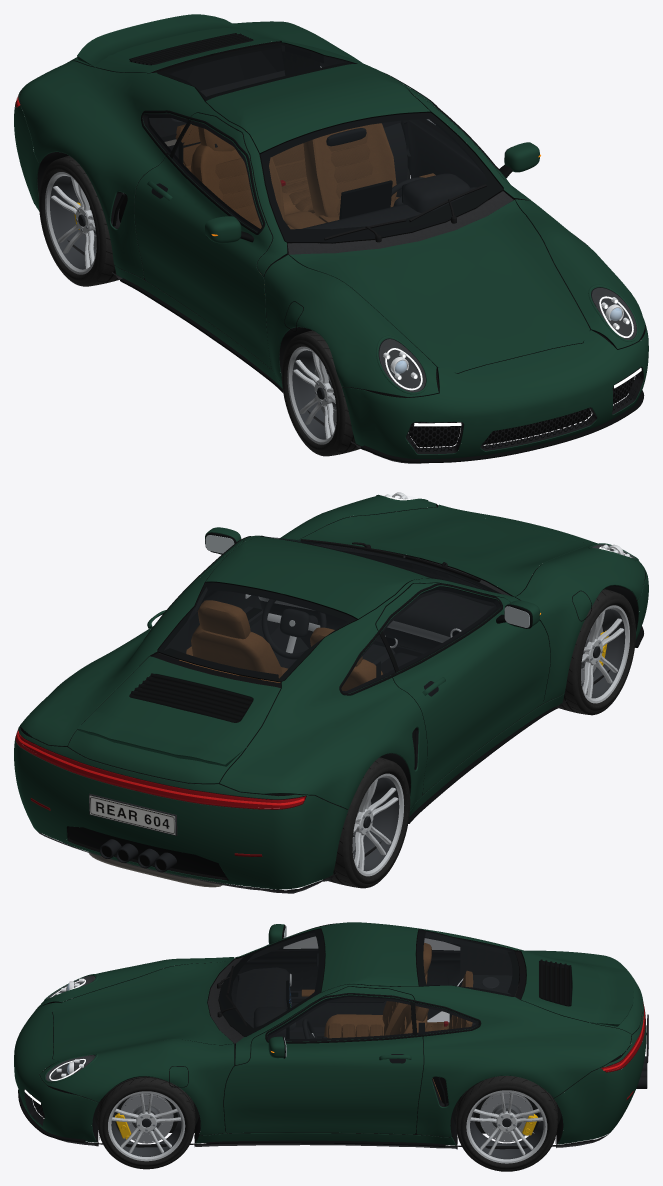
Rendered from rear-engine-sports-coupe.glb.
3 renders of one model, top to bottom at view 1: azimuth 30°, elevation 25°; view 2: azimuth 150°, elevation 25°; view 3: azimuth 270°, elevation 25°, orthographic. The views are drawn at different scales.
Visible parts, largest first — view 1: Body, Wheel_RR, Wheel_FR; view 2: Body, Wheel_RR, Wheel_FR, Steering_Wheel; view 3: Body, Wheel_RL, Wheel_FL.
Boxes of the visible parts, left/top/right/bottom form: Body: left=14, top=14, right=648, bottom=463; Wheel_RR: left=39, top=155, right=119, bottom=286; Wheel_FR: left=281, top=330, right=361, bottom=456; Body: left=14, top=492, right=648, bottom=893; Wheel_RR: left=323, top=757, right=410, bottom=888; Wheel_FR: left=556, top=589, right=635, bottom=715; Steering_Wheel: left=261, top=599, right=326, bottom=659; Body: left=14, top=922, right=648, bottom=1149; Wheel_RL: left=455, top=1075, right=557, bottom=1171; Wheel_FL: left=97, top=1076, right=195, bottom=1169.
Size of the model in its own units: 2 by 1.26 by 4.34.
60 materials, 11 textured.
